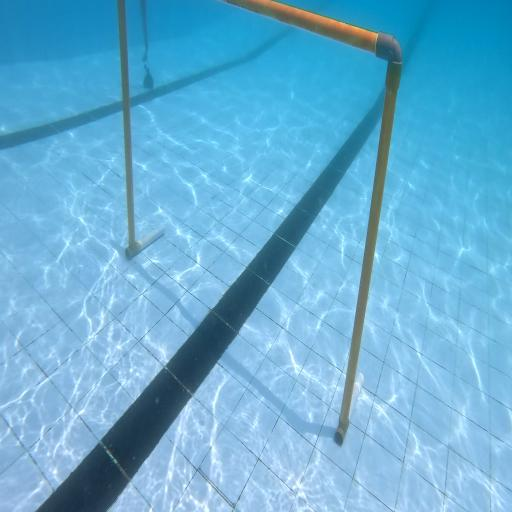gate: (118, 1, 401, 445)
